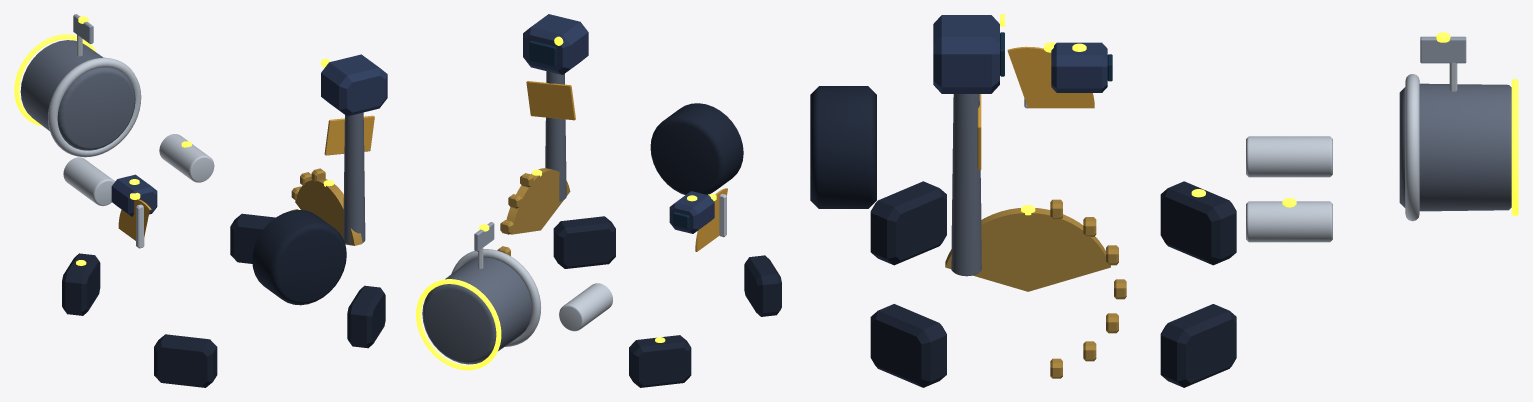
The model's file is tower_nova_range_s9.glb.
3 views of the same model, side by side, from view 1: azimuth 30°, elevation 25°; view 2: azimuth 150°, elevation 25°; view 3: azimuth 270°, elevation 25° (orthographic). The views are drawn at different scales.
Visible parts, largest first — view 1: nova_tube_extension, nova_counterweight, nova_spotter_head, nova_ballast3, nova_spotter_mast, nova_tube_collar, nova_ballast2, nova_ballast0, nova_arc_gear, nova_recup_ext_l, nova_recup_ext_r, nova_ballast1 (+6 smaller); view 2: nova_tube_extension, nova_counterweight, nova_ballast2, nova_ballast0, nova_spotter_head, nova_arc_gear, nova_ballast3, nova_range_plate, nova_recup_ext_r, nova_spotter_mast, nova_tube_ext_glow, nova_tube_collar (+5 smaller); view 3: nova_tube_extension, nova_arc_gear, nova_counterweight, nova_spotter_head, nova_spotter_mast, nova_ballast1, nova_ballast3, nova_ballast2, nova_ballast0, nova_recup_ext_r, nova_recup_ext_l, nova_quadrant_plate (+4 smaller).
Boxes of the visible parts, x1,y1,x2,y2 form: nova_tube_extension: [20, 40, 135, 150]; nova_counterweight: [252, 209, 346, 305]; nova_spotter_head: [321, 54, 387, 116]; nova_ballast3: [154, 334, 217, 387]; nova_spotter_mast: [343, 112, 365, 244]; nova_tube_collar: [48, 57, 141, 157]; nova_ballast2: [347, 285, 385, 348]; nova_ballast0: [62, 253, 100, 315]; nova_arc_gear: [295, 179, 362, 245]; nova_recup_ext_l: [159, 134, 214, 182]; nova_recup_ext_r: [63, 157, 114, 206]; nova_ballast1: [230, 213, 275, 263]; nova_tube_extension: [422, 257, 531, 364]; nova_counterweight: [650, 103, 743, 194]; nova_ballast2: [553, 216, 615, 268]; nova_ballast0: [629, 335, 691, 387]; nova_spotter_head: [523, 14, 588, 74]; nova_arc_gear: [506, 168, 570, 234]; nova_ballast3: [744, 255, 781, 316]; nova_range_plate: [526, 81, 575, 120]; nova_recup_ext_r: [559, 283, 612, 331]; nova_spotter_mast: [545, 71, 566, 201]; nova_tube_ext_glow: [416, 279, 501, 370]; nova_tube_collar: [451, 249, 540, 346]; nova_tube_extension: [1399, 83, 1511, 211]; nova_arc_gear: [945, 208, 1110, 291]; nova_counterweight: [810, 86, 876, 208]; nova_spotter_head: [933, 15, 999, 93]; nova_spotter_mast: [951, 94, 981, 276]; nova_ballast1: [1160, 304, 1236, 387]; nova_ballast3: [870, 181, 946, 265]; nova_ballast2: [870, 304, 946, 387]; nova_ballast0: [1160, 181, 1236, 265]; nova_recup_ext_r: [1246, 136, 1332, 177]; nova_recup_ext_l: [1246, 201, 1332, 242]; nova_quadrant_plate: [1007, 46, 1094, 108].
Bounding box in the file's own units: 1.49 × 1.53 × 2.76.
